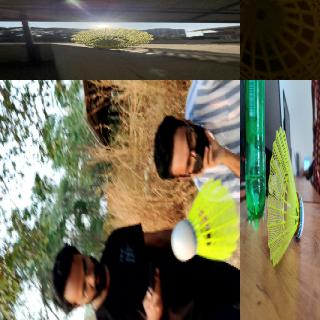shuttlecock: (240, 0, 319, 79), (169, 180, 239, 264), (267, 124, 304, 266), (70, 28, 154, 48)
